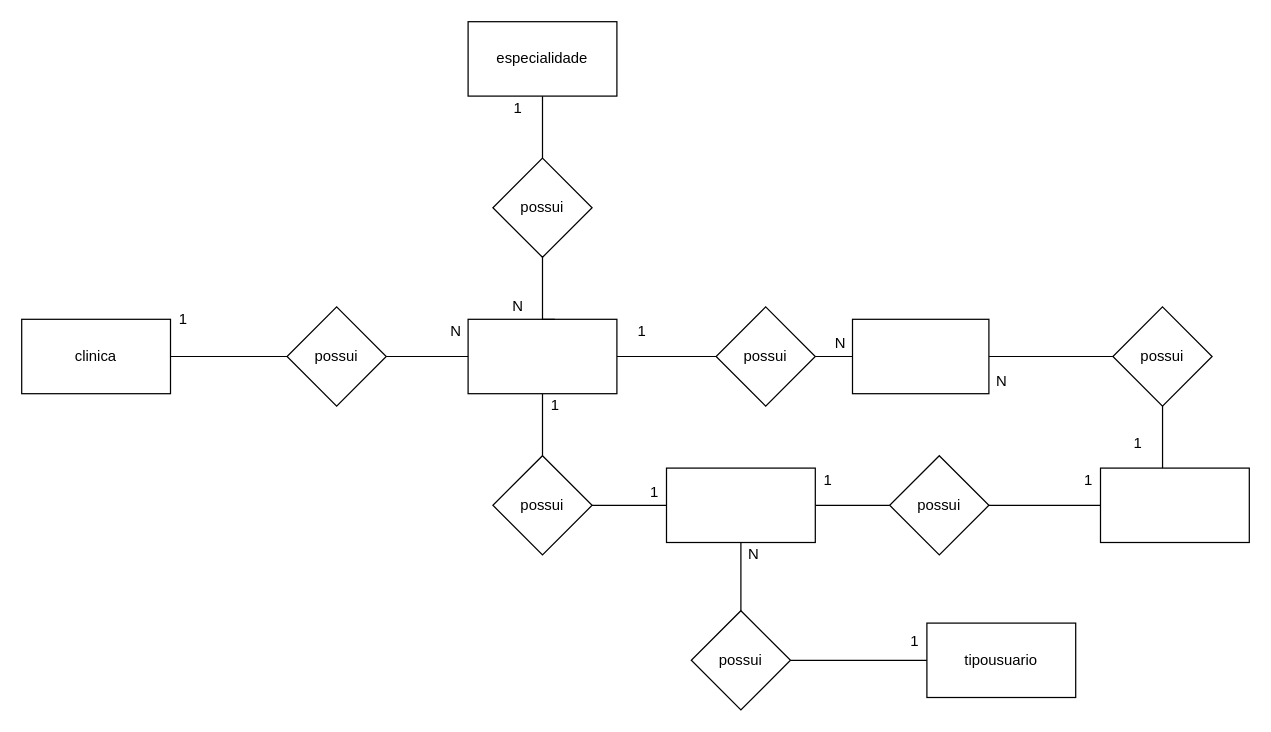
The diagram is 1271 pixels wide and 732 high, and some of its shapes have lost their labels. The shapes that lost their labels are listed below. From the top down, each one's centre as x and y in pixels, then its label:
point 542,356: medico
point 920,356: consultar
point 740,504: usuario
point 1174,504: paciente
